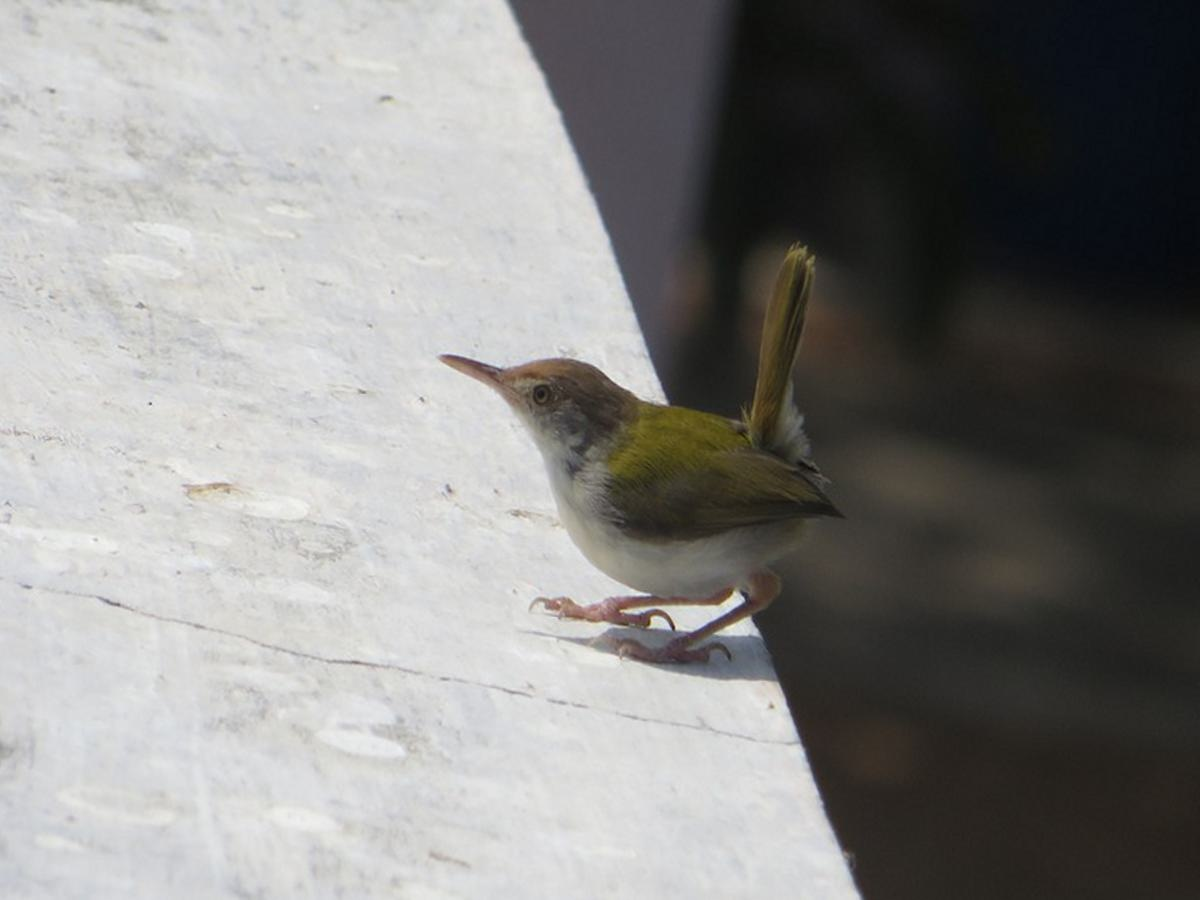tailorbird: (431, 286, 919, 666)
